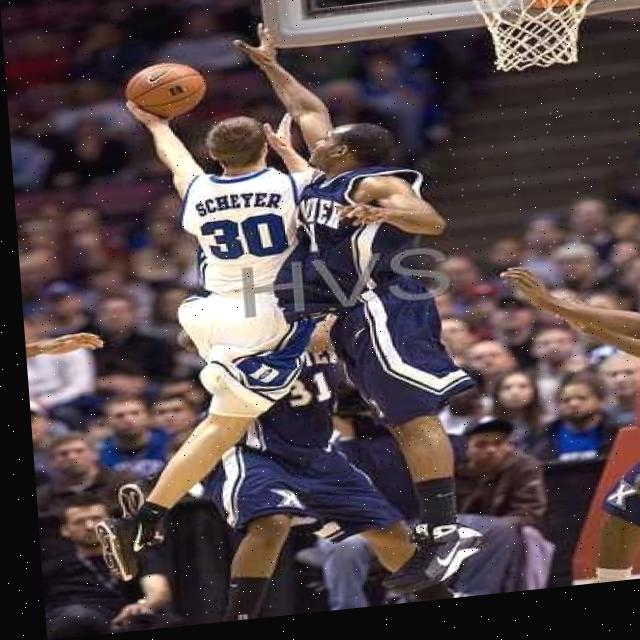basketball: (121, 56, 210, 123)
hoop: (451, 0, 625, 81)
